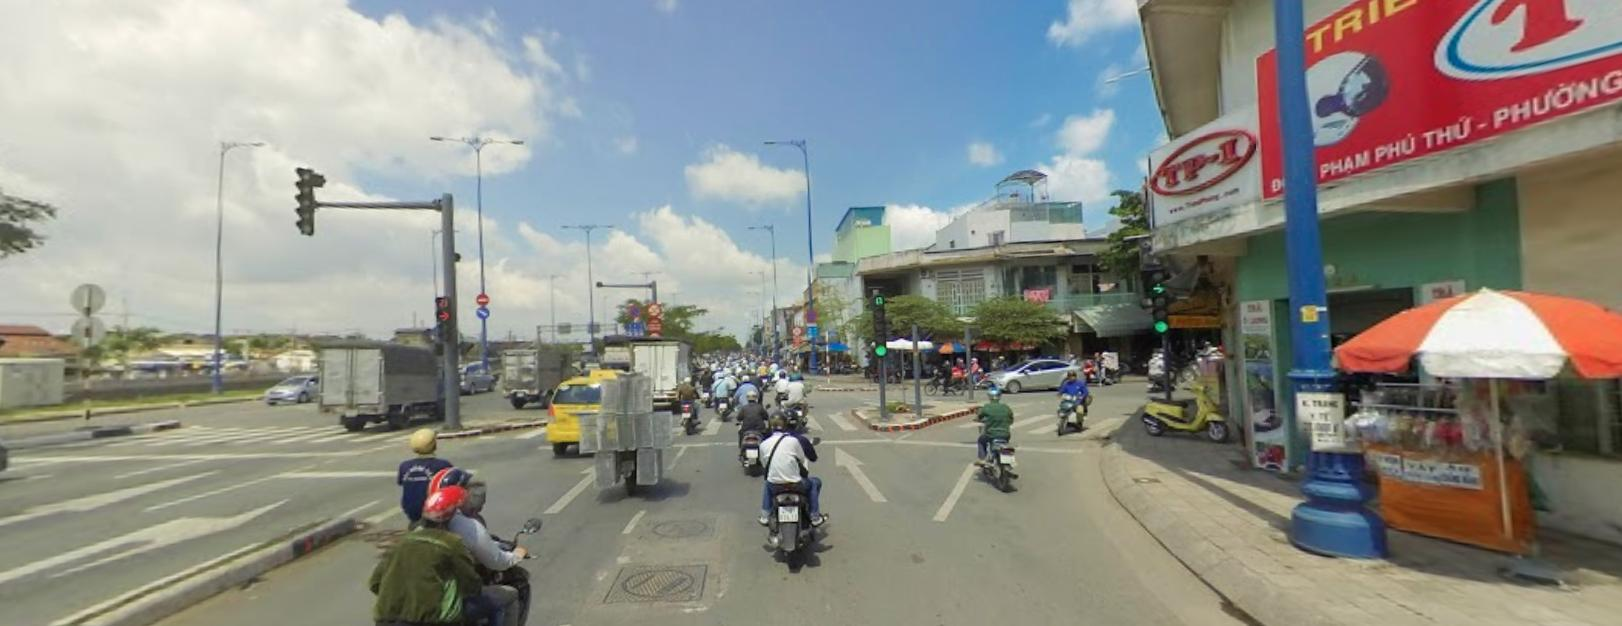Cam con lai: (647, 302, 660, 314), (791, 324, 802, 334)
Cam dung va do: (628, 302, 641, 315), (805, 307, 817, 321)
Cam nguoc chieu: (476, 291, 490, 303)
Hieu lenh: (476, 305, 490, 317)
